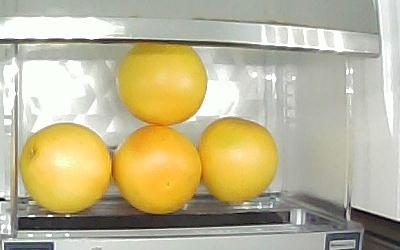grapefruit: (21, 122, 112, 212), (114, 125, 202, 212), (118, 43, 207, 124), (197, 118, 278, 204)
